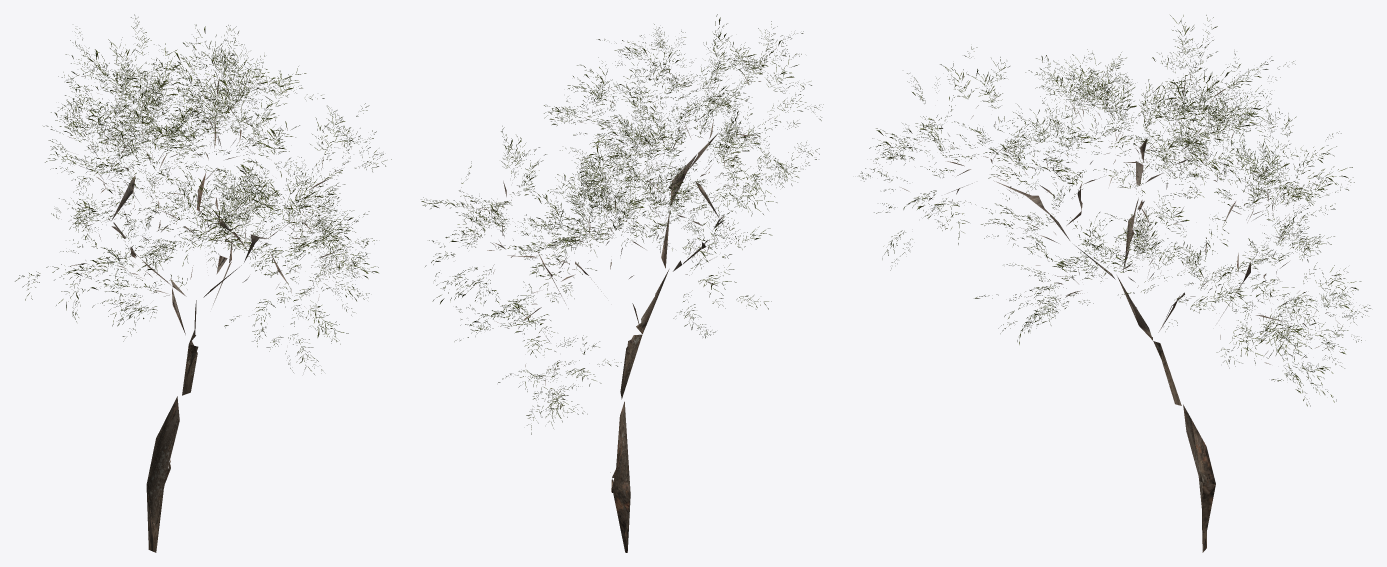
File: tree_small_02_lod1.gltf
3 views of the same model, side by side, from view 1: azimuth 30°, elevation 25°; view 2: azimuth 150°, elevation 25°; view 3: azimuth 270°, elevation 25° (orthographic). The views are drawn at different scales.
Parts seen in each view (by area): view 1: tree_small_02_lod1; view 2: tree_small_02_lod1; view 3: tree_small_02_lod1.
Part boxes in pixels (x1,y1,x2,y2): tree_small_02_lod1: (15, 14, 391, 552); tree_small_02_lod1: (421, 14, 823, 552); tree_small_02_lod1: (859, 15, 1370, 552).
Size of the model in its own units: 2.87 by 4.53 by 4.27.
3 materials, 3 textured.
